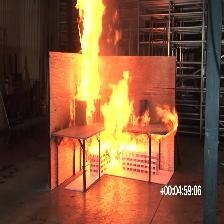fire: (60, 0, 183, 181)
